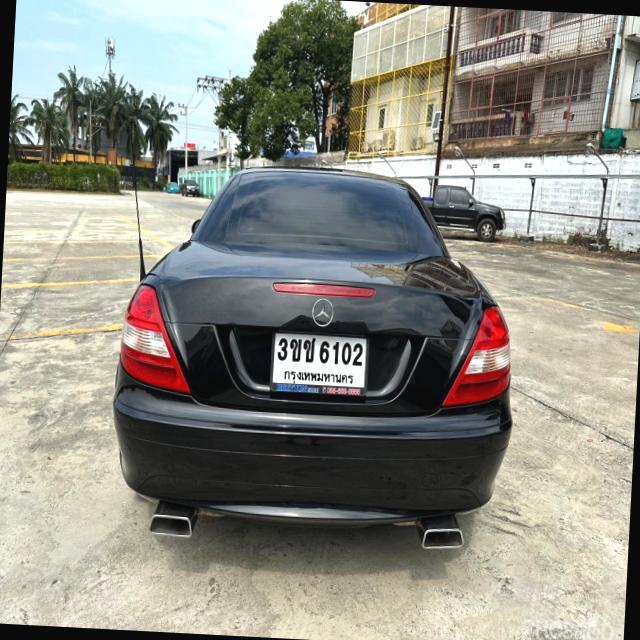license_plate: (267, 328, 370, 406)
